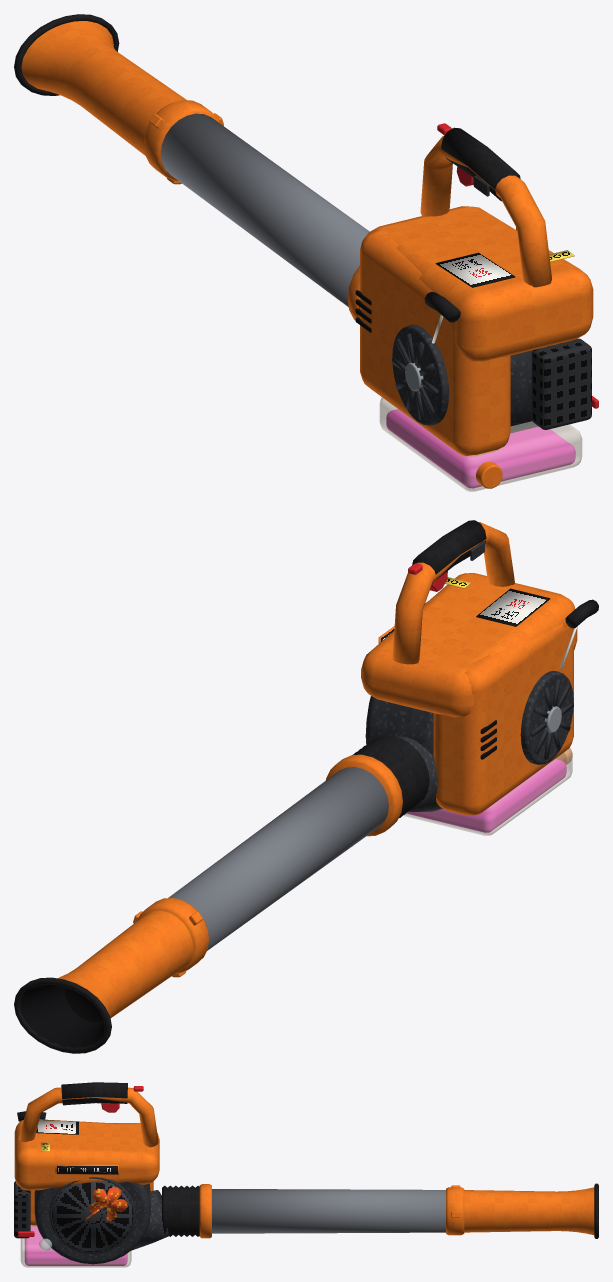
The model's file is w_blower.glb.
3 renders of one model, top to bottom at view 1: azimuth 30°, elevation 25°; view 2: azimuth 150°, elevation 25°; view 3: azimuth 270°, elevation 25°, orthographic. The views are drawn at different scales.
Parts seen in each view (by area): view 1: blower_body_wzA, blower_body_wzB, blower_body_wzN; view 2: blower_body_wzA, blower_body_wzB, blower_body_wzN; view 3: blower_body_wzB, blower_body_wzA, blower_body_wzN.
Boxes of the visible parts, x1=… form: blower_body_wzA: x1=355, y1=127, x2=593, y2=488; blower_body_wzB: x1=14, y1=14, x2=423, y2=391; blower_body_wzN: x1=379, y1=123, x2=598, y2=491; blower_body_wzA: x1=352, y1=520, x2=598, y2=817; blower_body_wzB: x1=14, y1=706, x2=561, y2=1053; blower_body_wzN: x1=378, y1=563, x2=577, y2=835; blower_body_wzB: x1=199, y1=1183, x2=598, y2=1238; blower_body_wzA: x1=14, y1=1082, x2=199, y2=1264; blower_body_wzN: x1=14, y1=1086, x2=143, y2=1267.
Size of the model in its own units: 0.1985 by 0.3465 by 1.06.
Materials: 17 (9 with a texture image).
